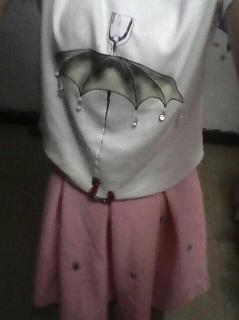short sleeve top: (40, 0, 219, 200)
skirt: (31, 145, 211, 319)
